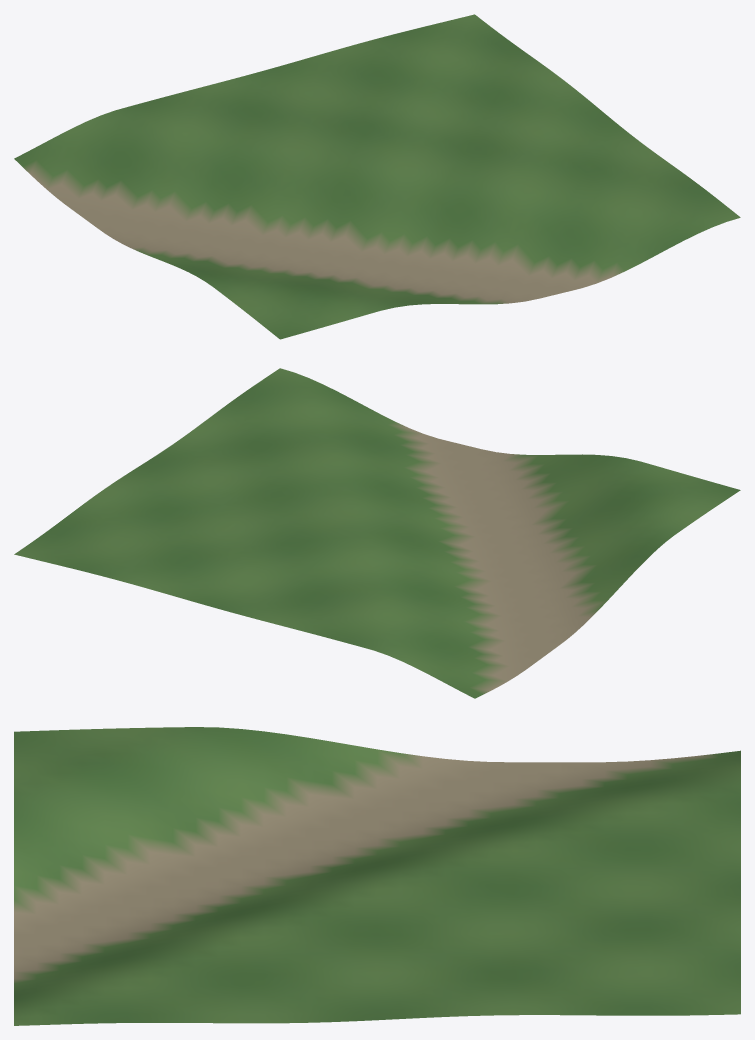
The model's file is chunk_4_5.glb.
The picture shows the model from 3 angles, top to bottom: view 1: azimuth 30°, elevation 25°; view 2: azimuth 150°, elevation 25°; view 3: azimuth 270°, elevation 25°; orthographic projection. The views are drawn at different scales.
Bounding box in the file's own units: 512 × 42.91 × 512.
